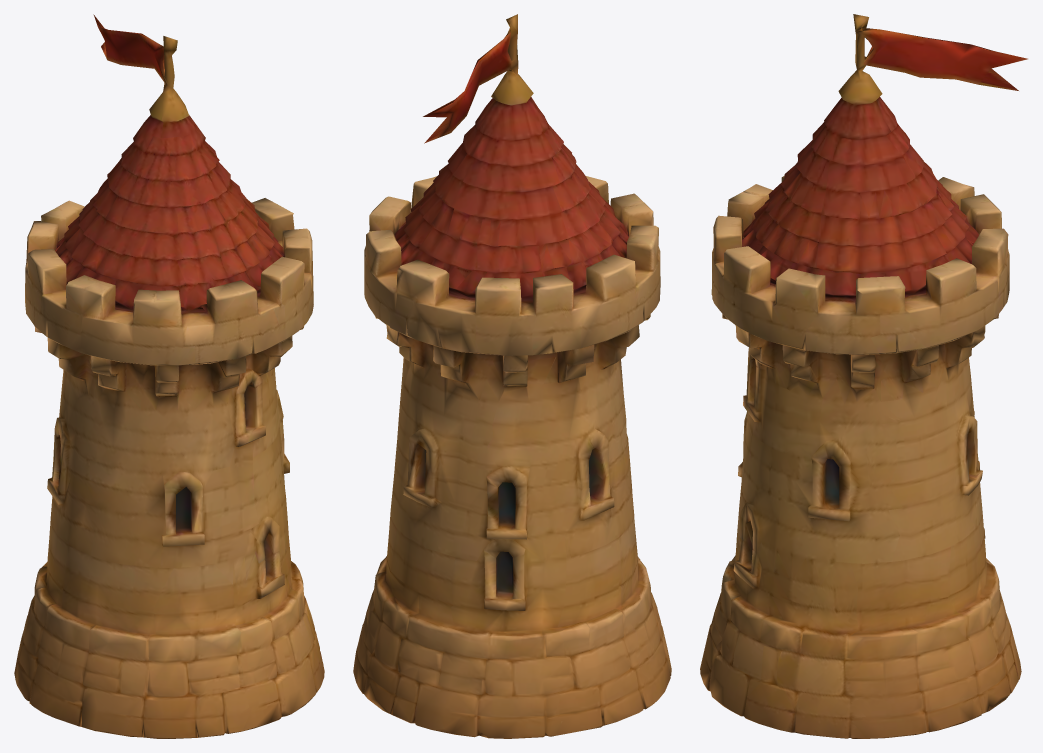
The model's file is fortress-tower.glb.
3 renders of one model, left to right at view 1: azimuth 30°, elevation 25°; view 2: azimuth 150°, elevation 25°; view 3: azimuth 270°, elevation 25°, orthographic. The views are drawn at different scales.
Parts seen in each view (by area): view 1: fortress-tower; view 2: fortress-tower; view 3: fortress-tower.
Part boxes in pixels (x1,y1,x2,y2): fortress-tower: (14, 14, 324, 738); fortress-tower: (353, 14, 671, 738); fortress-tower: (700, 14, 1027, 738).
Size of the model in its own units: 8.38 by 19 by 8.6.
Materials: 1 (1 with a texture image).
